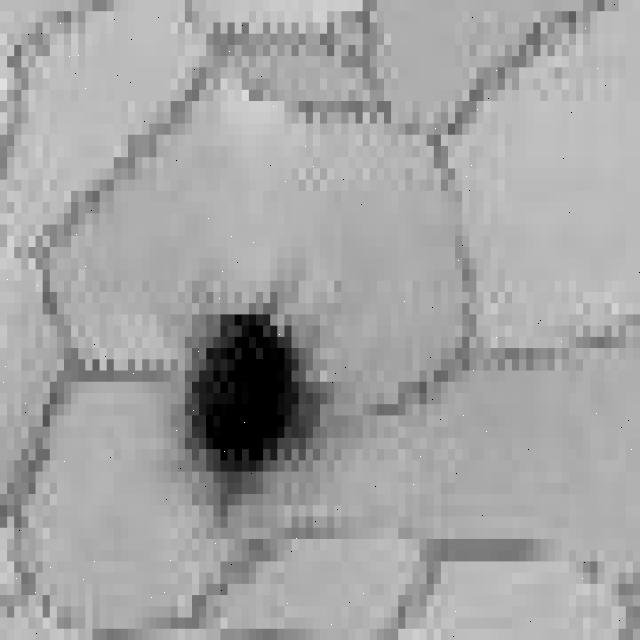good_void: (165, 275, 337, 541)
